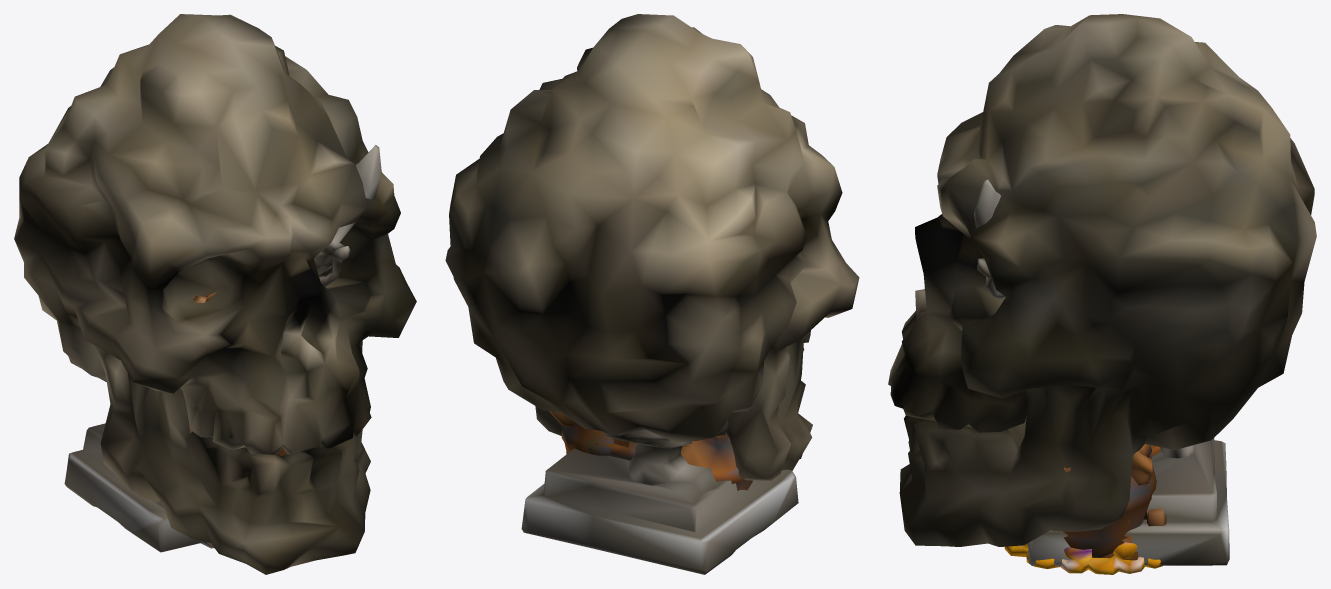
File: props.glb
The picture shows the model from 3 angles, left to right: view 1: azimuth 30°, elevation 25°; view 2: azimuth 150°, elevation 25°; view 3: azimuth 270°, elevation 25°; orthographic projection. The views are drawn at different scales.
Visible parts, largest first — view 1: skullrock, statue; view 2: skullrock, statue, barrels; view 3: skullrock, statue, barrels, gold, figurehead.
Part boxes in pixels (<box>): skullrock: <box>14,14,416,574</box>; statue: <box>64,145,381,552</box>; skullrock: <box>445,14,859,480</box>; statue: <box>521,421,798,574</box>; barrels: <box>561,422,752,490</box>; skullrock: <box>888,14,1316,546</box>; statue: <box>974,179,1229,566</box>; barrels: <box>1063,444,1160,557</box>; gold: <box>1004,542,1162,574</box>; figurehead: <box>1064,450,1152,560</box>.
Bounding box in the file's own units: 2.64 × 4 × 3.07.
